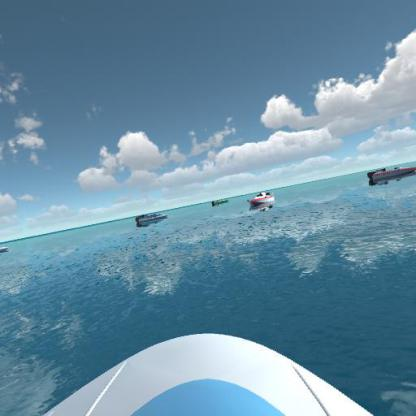usv0: (210, 195, 230, 208)
usv1: (134, 206, 170, 228), (0, 244, 14, 255)
usv3: (366, 162, 415, 188), (247, 187, 278, 211)
